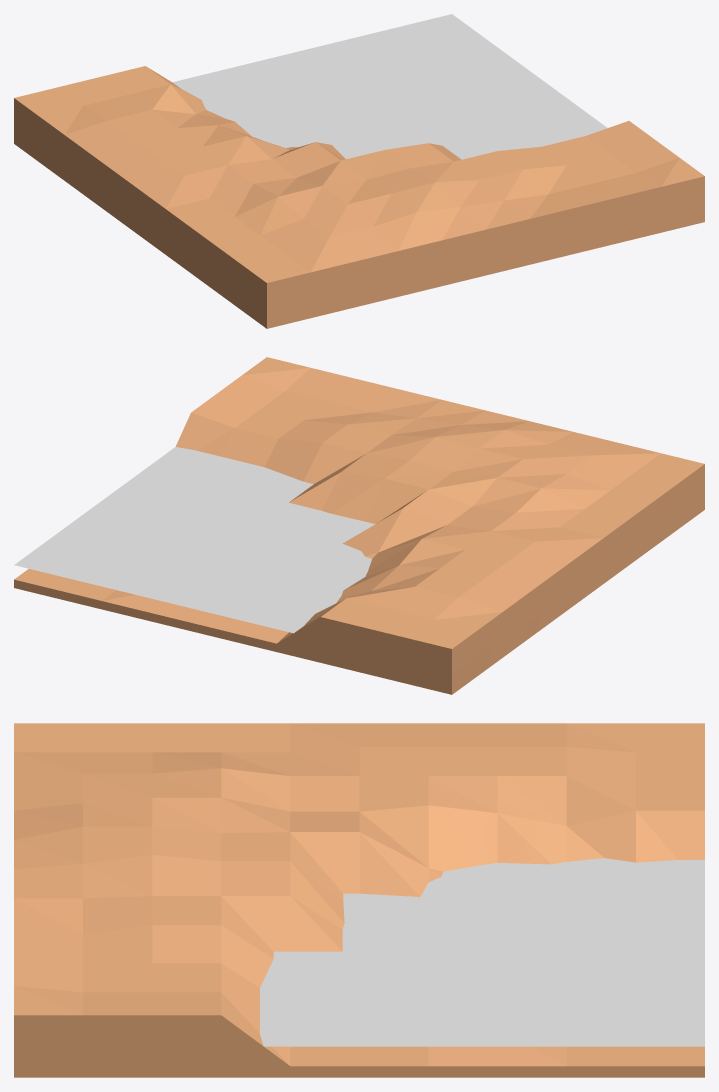
File: waterCorner.fbx
The picture shows the model from 3 angles, top to bottom: view 1: azimuth 30°, elevation 25°; view 2: azimuth 150°, elevation 25°; view 3: azimuth 270°, elevation 25°; orthographic projection. The views are drawn at different scales.
Parts seen in each view (by area): view 1: Cube, Plane; view 2: Cube, Plane; view 3: Cube, Plane.
Boxes of the visible parts, box(x1,y1,x2,y2) form: Cube: box(14, 66, 704, 328); Plane: box(172, 14, 607, 159); Cube: box(14, 357, 704, 694); Plane: box(14, 447, 375, 633); Cube: box(14, 723, 704, 1077); Plane: box(260, 858, 704, 1046).
Bounding box in the file's own units: 100 × 12.28 × 100.
1 material, 1 textured.
